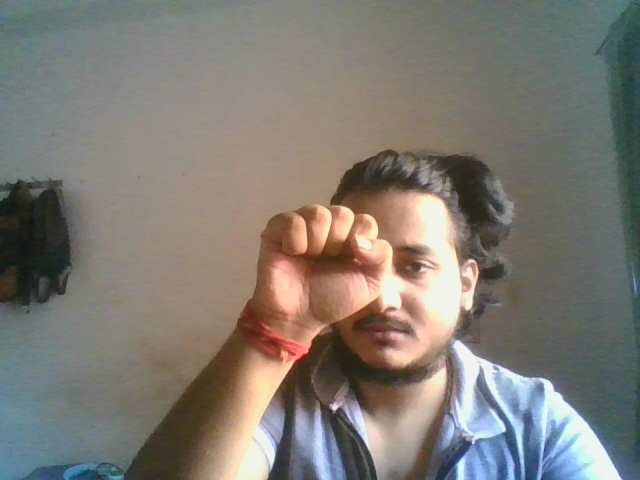Close: (257, 204, 393, 325)
